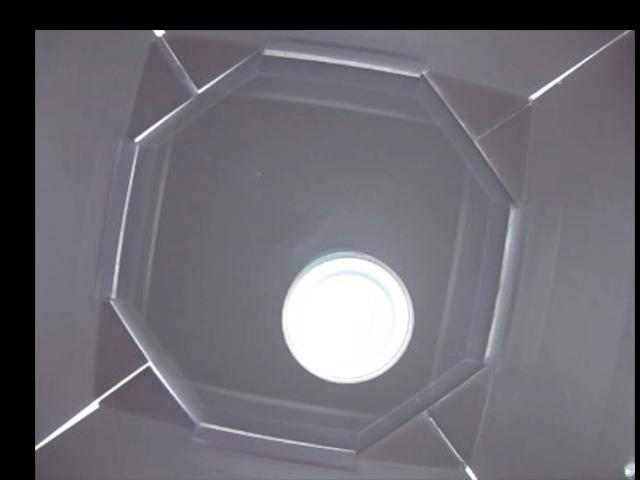Bottle: (281, 250, 414, 383)
